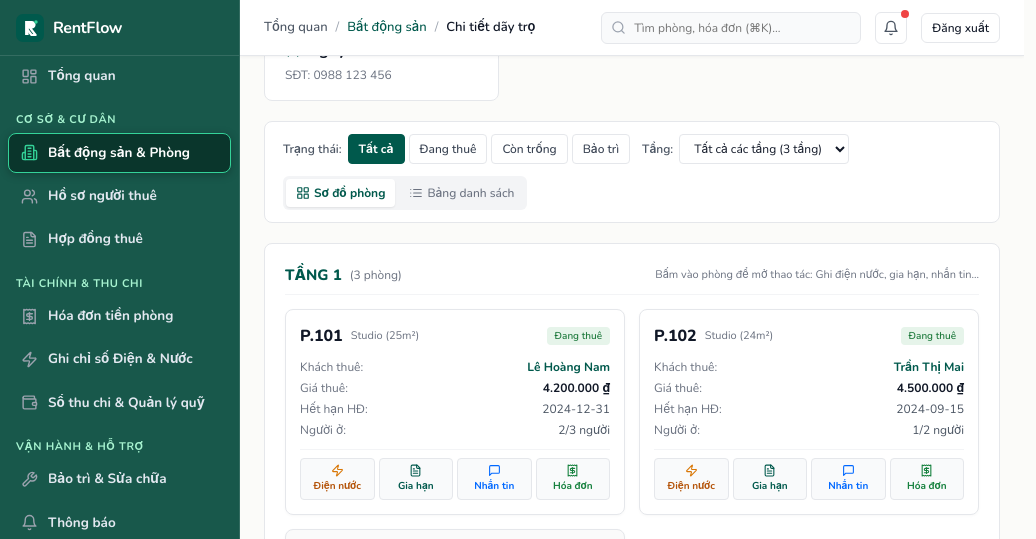
Scenario: Test with Landlord user logged in › navigates from PropertyDetailPage to dedicated RoomDetailPage and switches tabs
(page scrolled)
// Click on room card P.101 to navigate directly to dedicated room page
Step 1. Click the element titled "Bấm để mở trang chi tiết phòng P.101" → (455, 412), box [285,309,625,515]
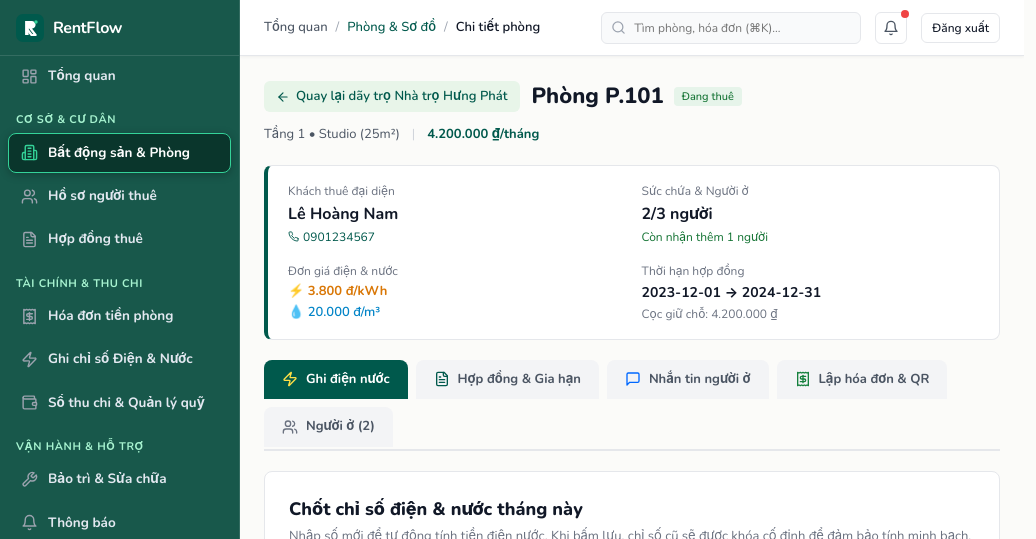
Expected: the heading "Chốt chỉ số điện & nước tháng này" is shown, [289,496,583,520]
// Switch to Hợp đồng tab
Step 2. Click the button "Hợp đồng & Gia hạn" → (507, 379), box [416,360,599,399]
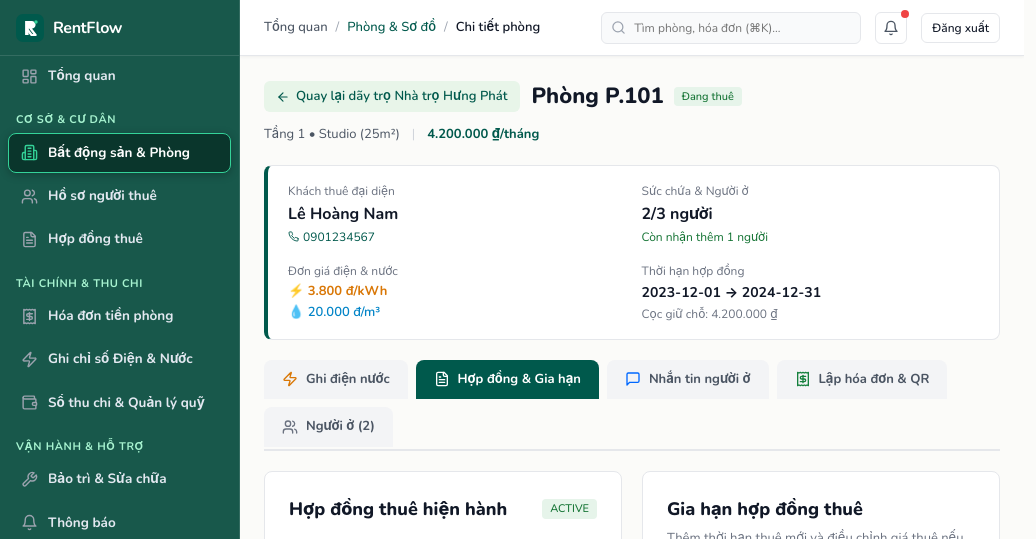
Expected: the heading "Hợp đồng thuê hiện hành" is shown, [289,496,507,522]
// Switch to Nhắn tin tab
Step 3. Click the button "Nhắn tin người ở" → (688, 379), box [607,360,769,399]
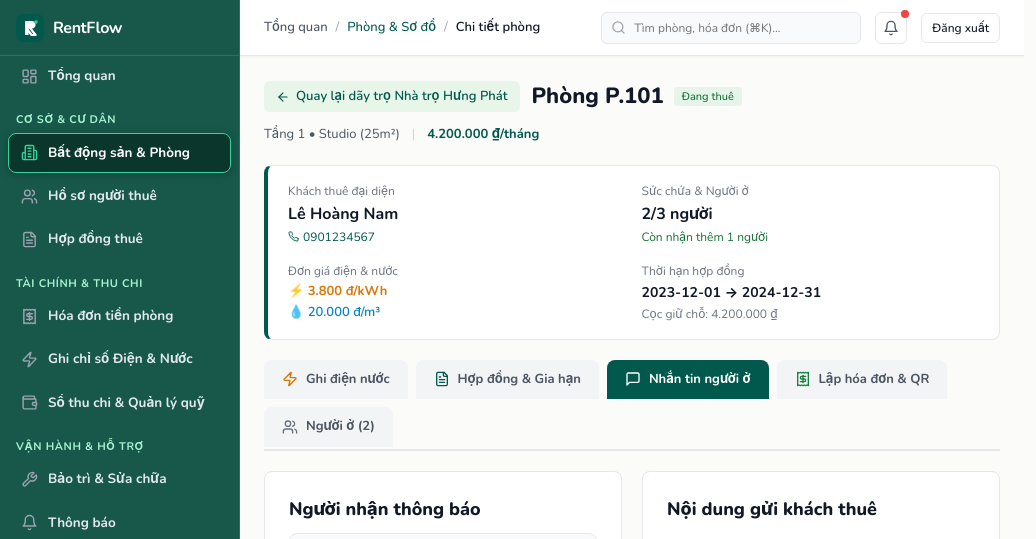
Expected: the heading "Nội dung gửi khách thuê" is shown, [667,496,877,520]
// Switch to Hóa đơn tab
Step 4. Click the button "Lập hóa đơn & QR" → (862, 379), box [777,360,948,399]
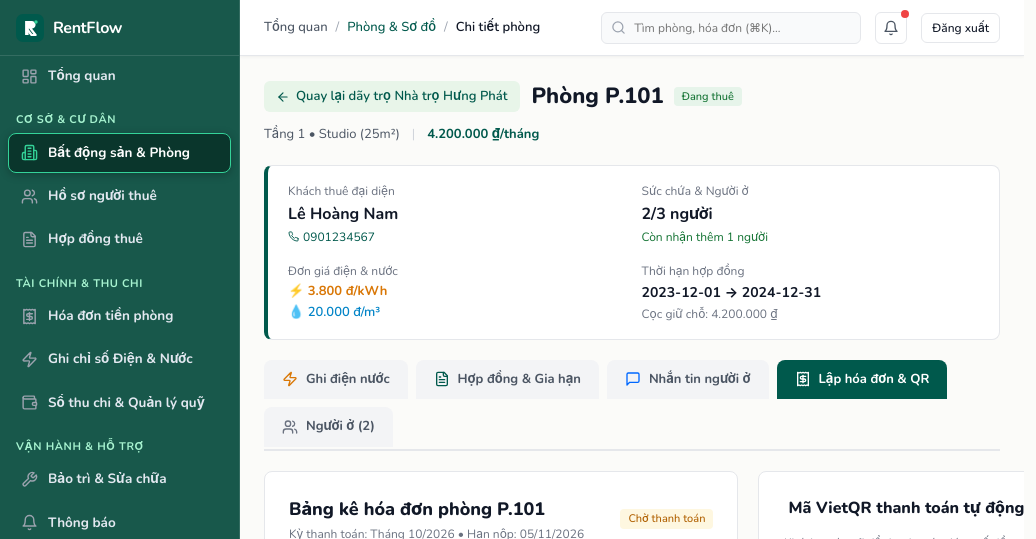
Expected: the heading "Bảng kê hóa đơn phòng P.101" is shown, [289,496,584,522]
// Switch to Người ở tab
Step 5. Click the button "Người ở (2)" → (328, 427), box [264,407,393,446]
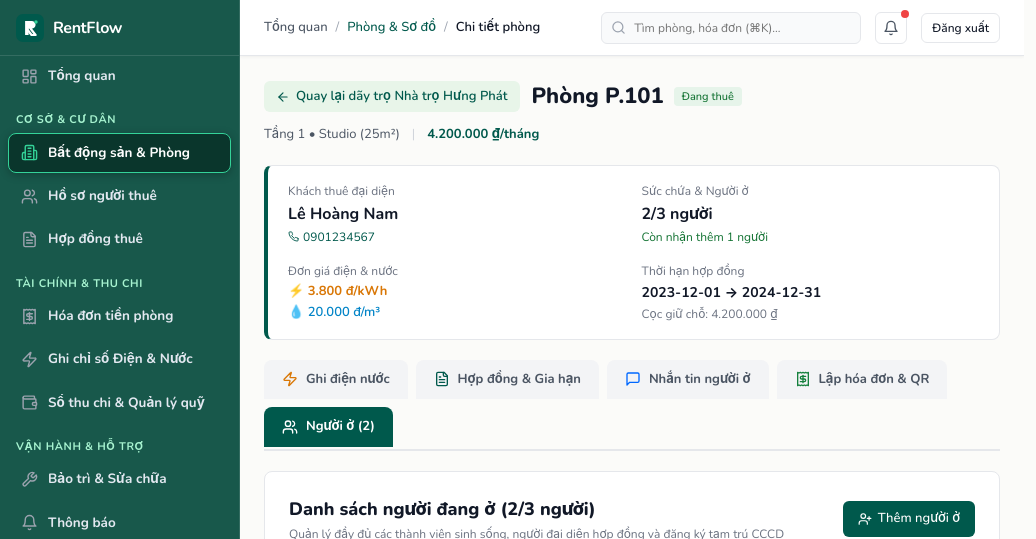
Expected: the heading "Danh sách người đang ở (2/3 người)" is shown, [289,496,596,520]
